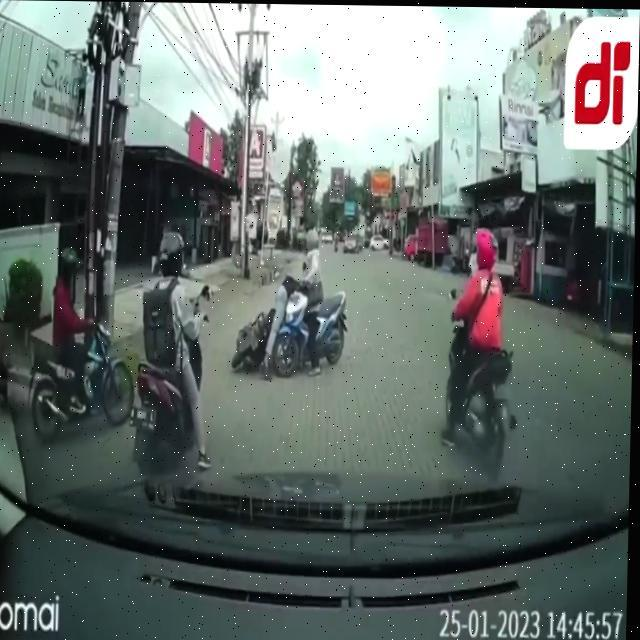multiple_accident: (232, 212, 387, 428)
normal: (20, 207, 228, 495), (407, 182, 553, 513)
